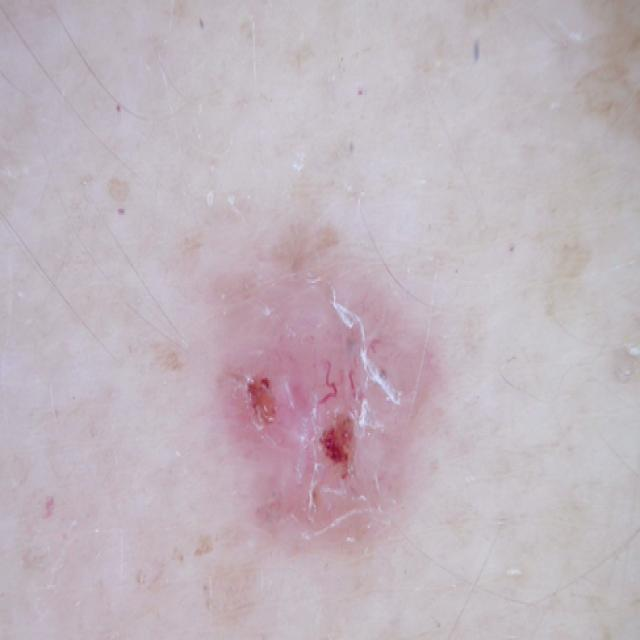Carcinoma: (158, 236, 482, 621)
